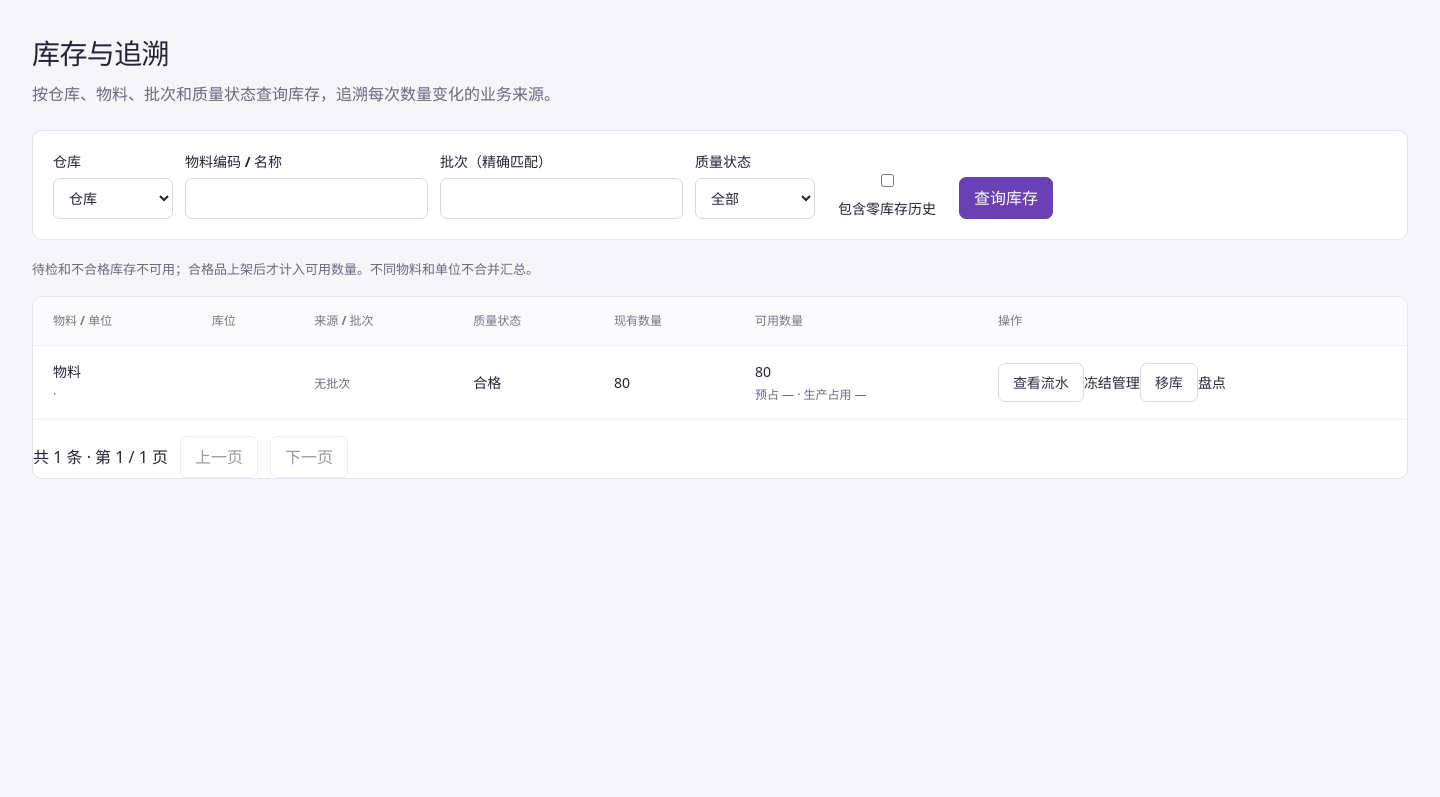
Test: requires physical confirmation and keeps the original payload on uncertain retry
Click the button "移库".
click(1169, 382)  # box x1=1140 y1=362 x2=1198 y2=402
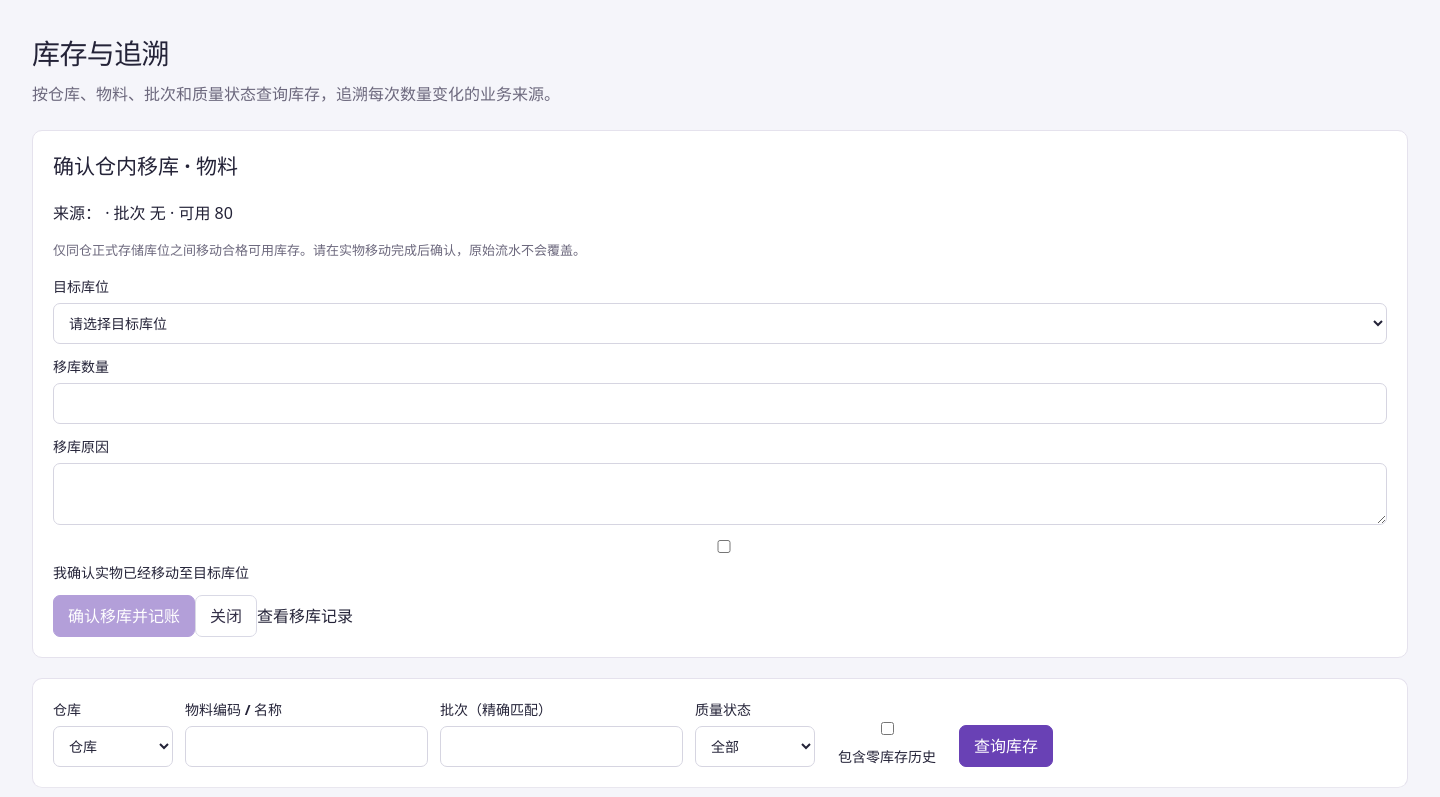
Select "B · 目标位" in the dropdown labelled "目标库位" at (720, 324), box x1=53 y1=303 x2=1387 y2=344
Type "30.123456" into the field labelled "移库数量".
click(720, 404); type("30.123456")  # box x1=53 y1=383 x2=1387 y2=424
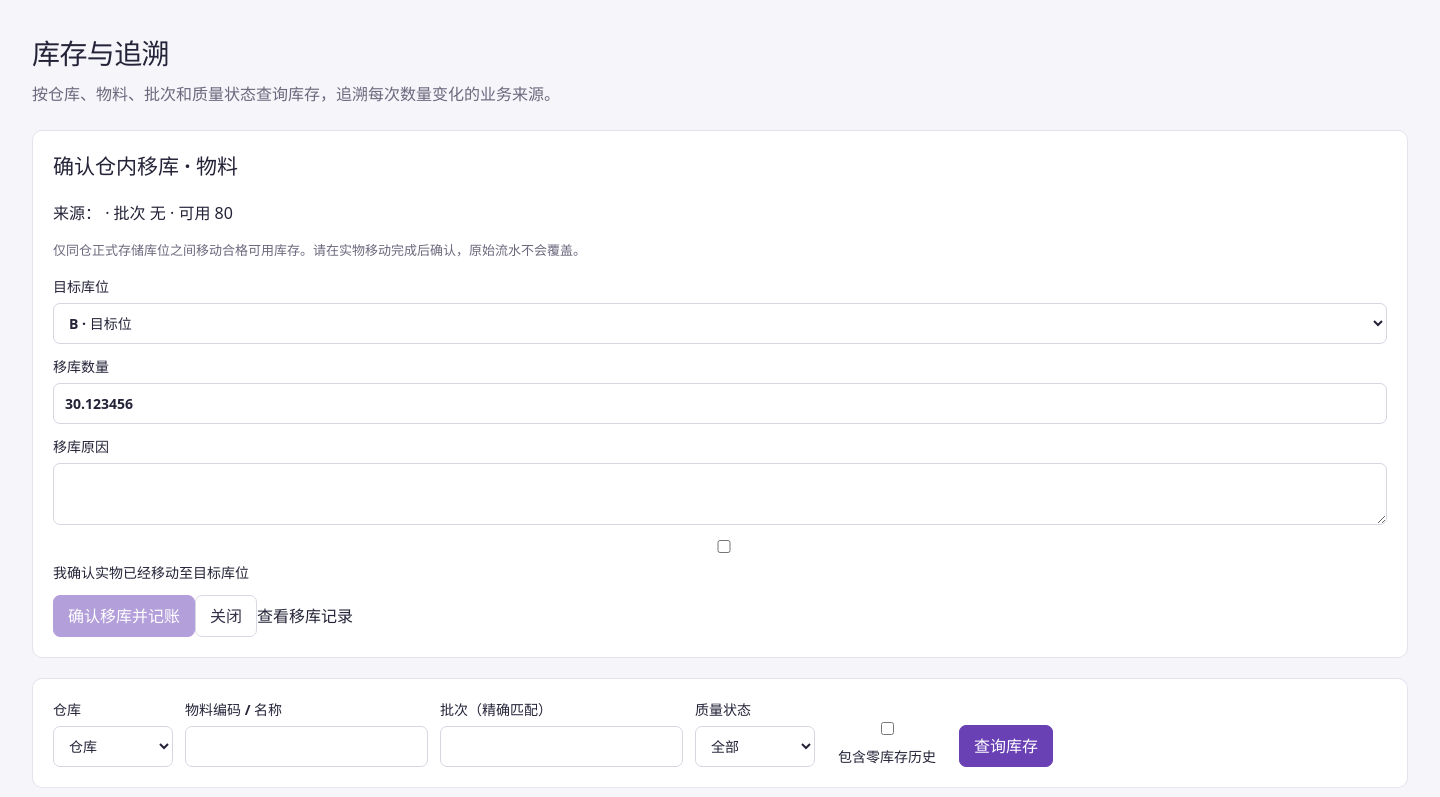
Type "调整存放位置" into the text box labelled "移库原因".
click(720, 494); type("调整存放位置")  # box x1=53 y1=463 x2=1387 y2=525
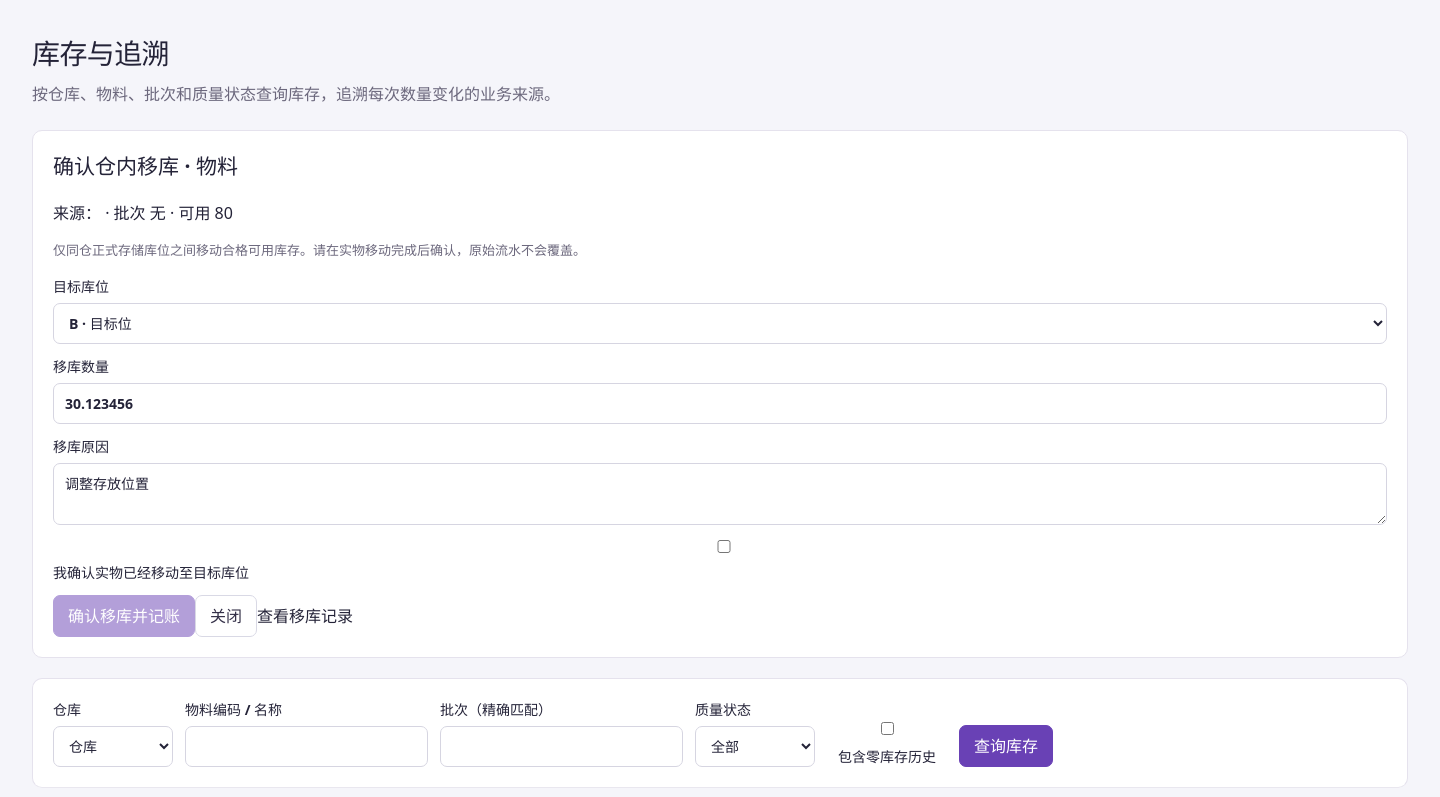
Check: the button "确认移库并记账" is disabled, box x1=53 y1=595 x2=195 y2=637
Click the checkbox labelled "我确认实物已经移动至目标库位".
click(724, 546)  # box x1=57 y1=540 x2=1391 y2=553
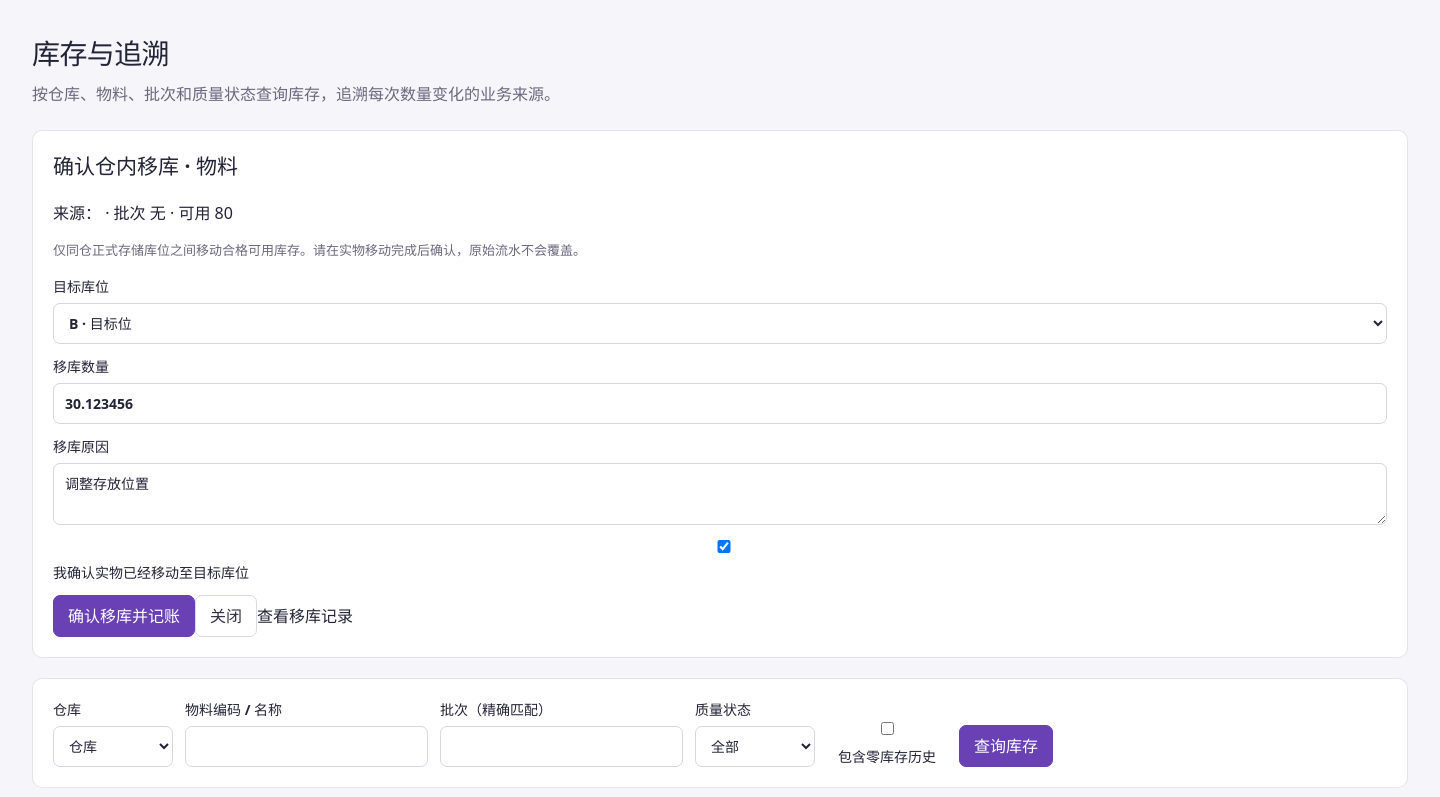
Submit the form "目标库位 移库数量 移库原因 我确认实物已经移动至目标库位 确认移库并记账 关闭 查看移库记录", box x1=53 y1=276 x2=1387 y2=637
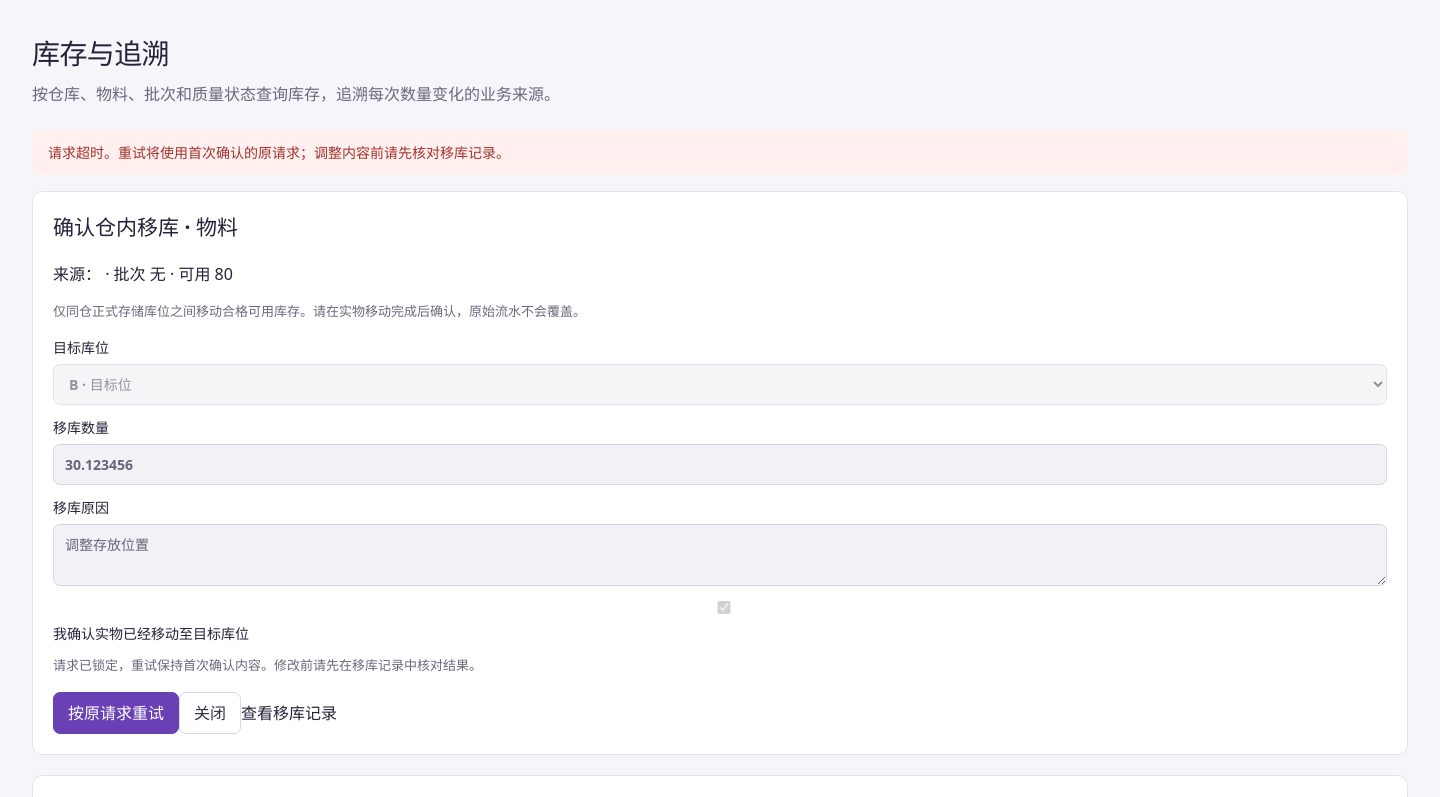
Check: the element showing "目标库位 移库数量 移库原因 我确认实物已经移动至目标库位" is disabled, box x1=53 y1=337 x2=1387 y2=644
Submit the form that starts with "目标库位", box x1=53 y1=337 x2=1387 y2=734
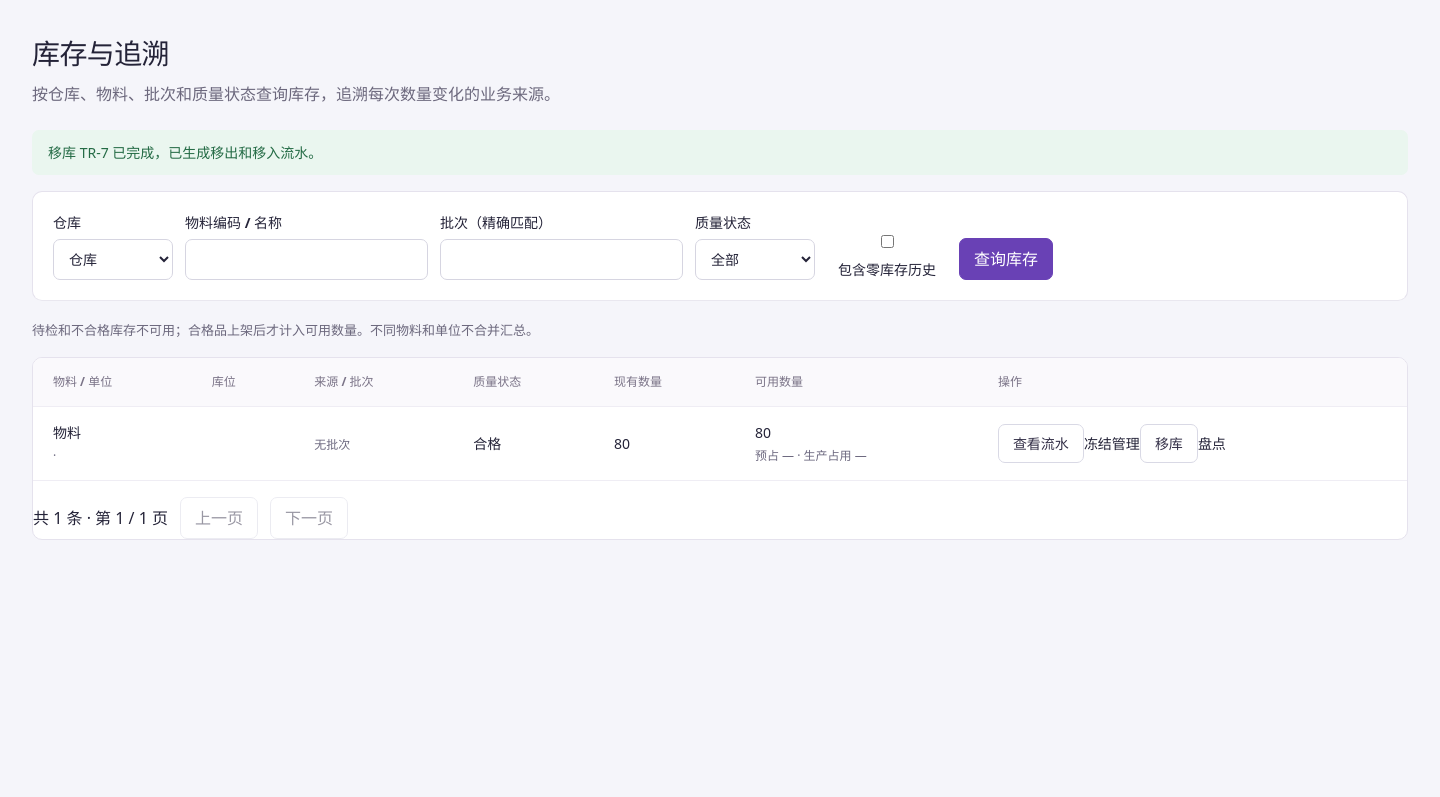
Check: the text "移库 TR-7 已完成" is shown, box x1=48 y1=143 x2=322 y2=162
